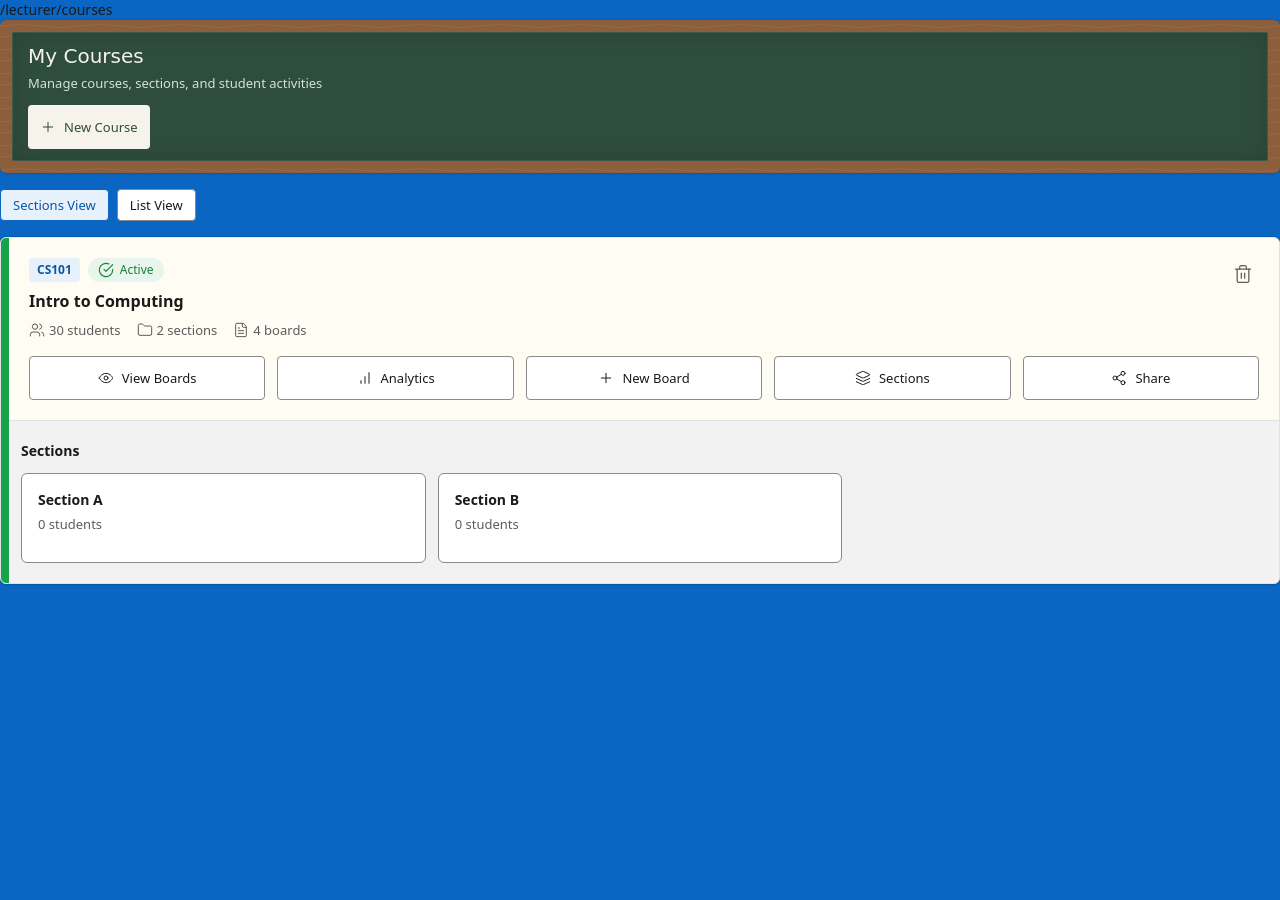
Test: LecturerCoursesPage › Share shows the invite code and link inside a dialog
Click the button "Share" at (1141, 378), box [1023,356,1259,400]
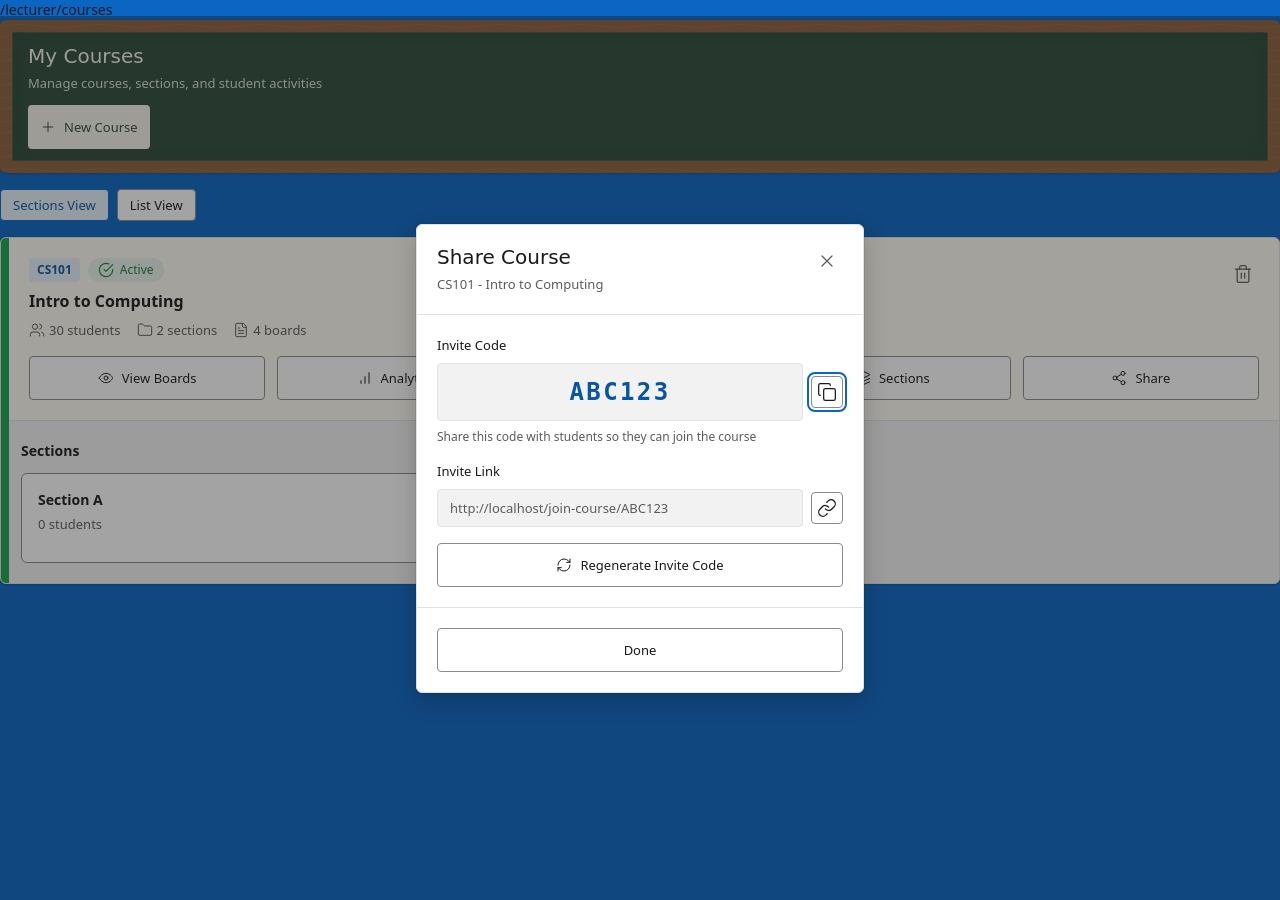
Expected: the text "ABC123" is shown, [437,362,803,420]
Expected: the text "http://localhost/join-course/ABC123" is shown, [437,488,803,526]
Expected: the button named "Copy invite code" is shown, [811,376,843,408]
